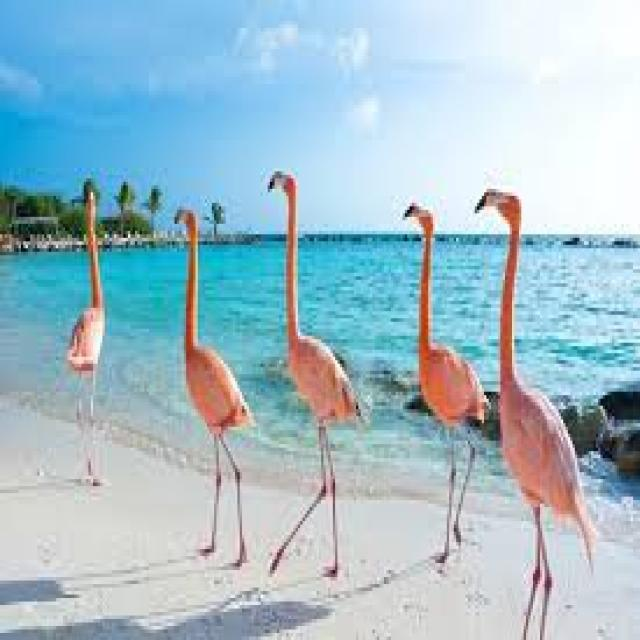Flamingo: (475, 186, 598, 631), (265, 160, 368, 594), (398, 197, 491, 570), (172, 203, 256, 566), (68, 184, 108, 490)
